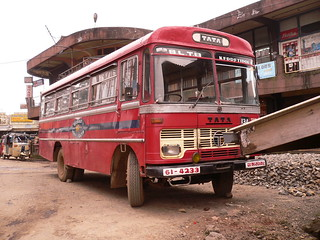bus: (35, 25, 262, 207)
threewheel: (3, 133, 30, 161)
